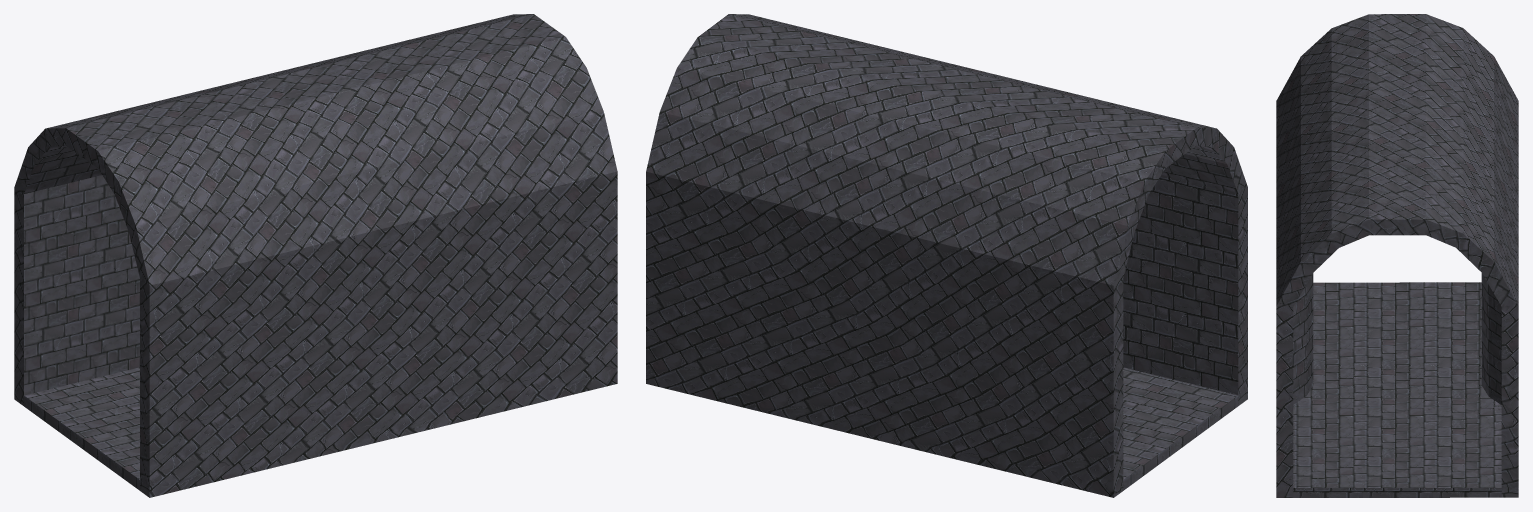
Rendered from dungeonsMiddle.fbx.
The picture shows the model from 3 angles, left to right: view 1: azimuth 30°, elevation 25°; view 2: azimuth 150°, elevation 25°; view 3: azimuth 270°, elevation 25°; orthographic projection. The views are drawn at different scales.
Visible parts, largest first — view 1: DungedonsMiddle; view 2: DungedonsMiddle; view 3: DungedonsMiddle.
Part boxes in pixels (x1,y1,x2,y2): DungedonsMiddle: (14, 14, 617, 497); DungedonsMiddle: (646, 14, 1247, 497); DungedonsMiddle: (1276, 14, 1518, 497).
Bounding box in the file's own units: 9.25 × 5.83 × 4.61.
